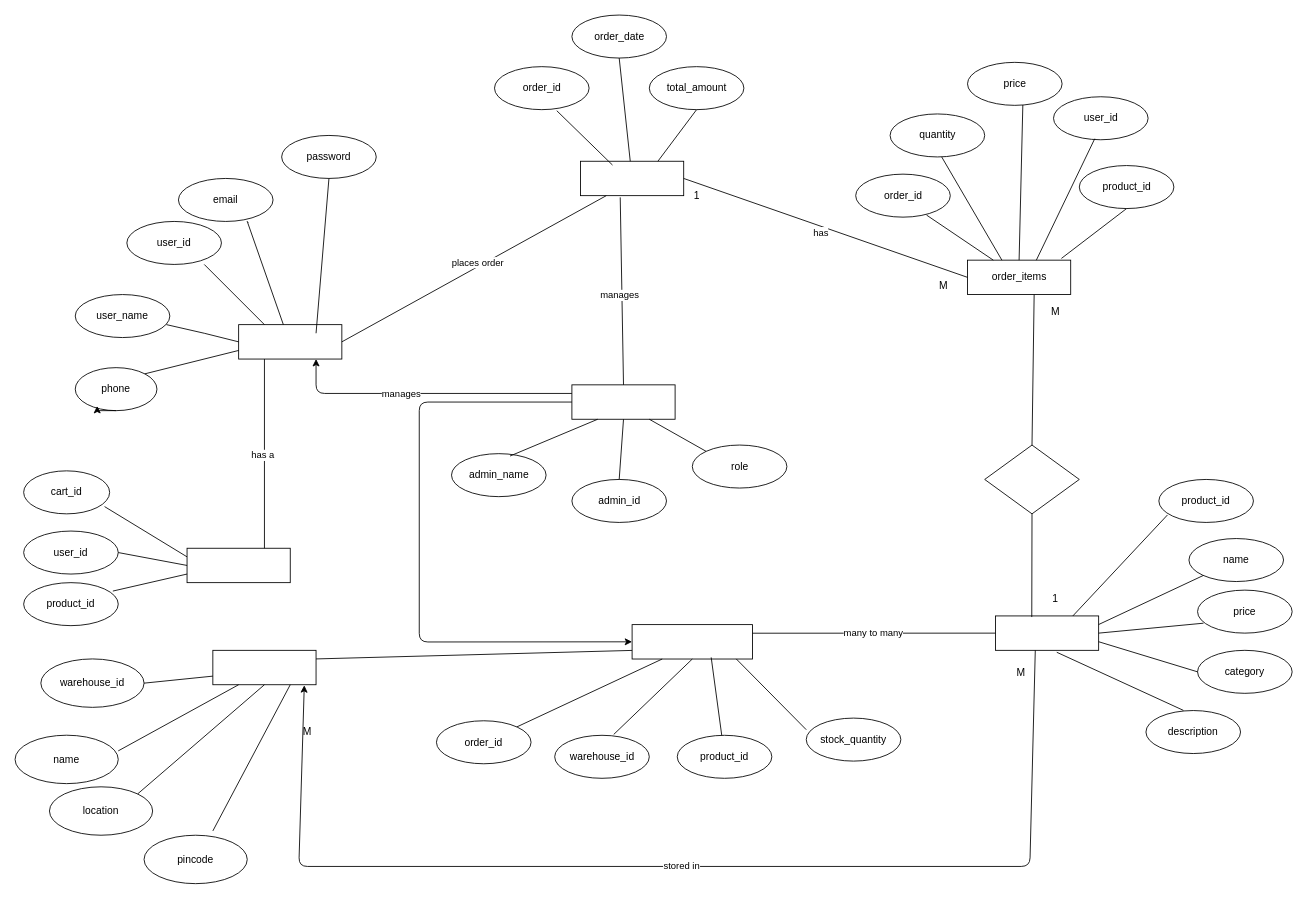
This 1307x899 diagram has some shape labels left out. Here are the shapes that lost their labels. From the top down, the centre of each, then its label:
At (x=632, y=178): "ORDER".
At (x=290, y=341): "USER".
At (x=623, y=401): "ADMIN".
At (x=1031, y=479): "references".
At (x=238, y=565): "CART".
At (x=691, y=641): "WAREHOUSE_product".
At (x=1047, y=632): "PRODUCT".
At (x=264, y=667): "WAREHOUSE".
